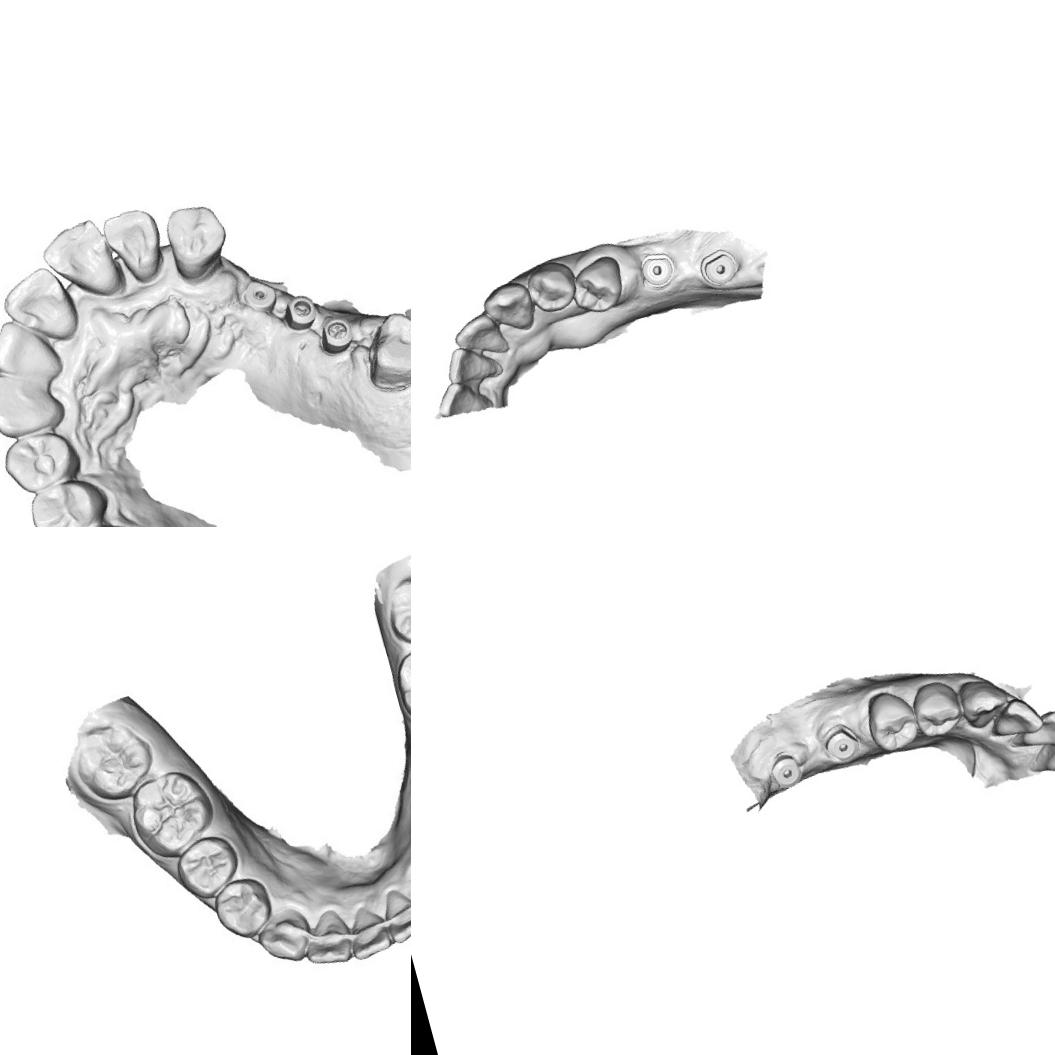canine: (156, 196, 236, 282), (0, 357, 72, 446), (476, 274, 539, 338), (252, 904, 314, 968), (954, 672, 1011, 732)
crown: (352, 302, 411, 400)
implant: (232, 271, 282, 321), (694, 243, 745, 291), (818, 720, 864, 766), (635, 247, 679, 291), (765, 749, 806, 792), (317, 314, 356, 356), (282, 291, 322, 329)
incisor: (31, 212, 130, 313), (0, 259, 85, 353), (96, 197, 171, 291), (0, 308, 65, 388), (337, 900, 399, 964), (439, 335, 507, 392), (448, 306, 511, 365), (294, 906, 352, 970), (984, 690, 1048, 744), (377, 881, 411, 947), (1013, 703, 1055, 756), (1037, 731, 1055, 779)
molar: (124, 766, 221, 864), (66, 714, 160, 807), (379, 560, 411, 651), (389, 632, 411, 732)
premolar: (0, 422, 85, 498), (169, 832, 248, 902), (21, 470, 111, 527), (208, 874, 276, 946), (858, 684, 925, 756), (562, 250, 631, 318), (904, 674, 970, 744), (520, 255, 580, 320)
